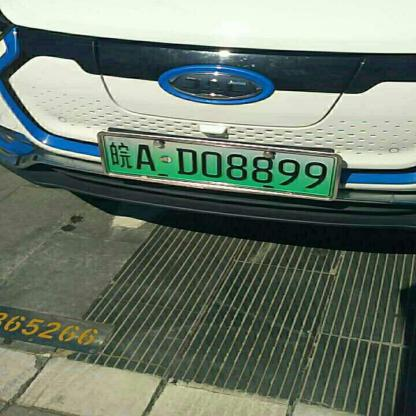lp: (102, 136, 336, 194)
